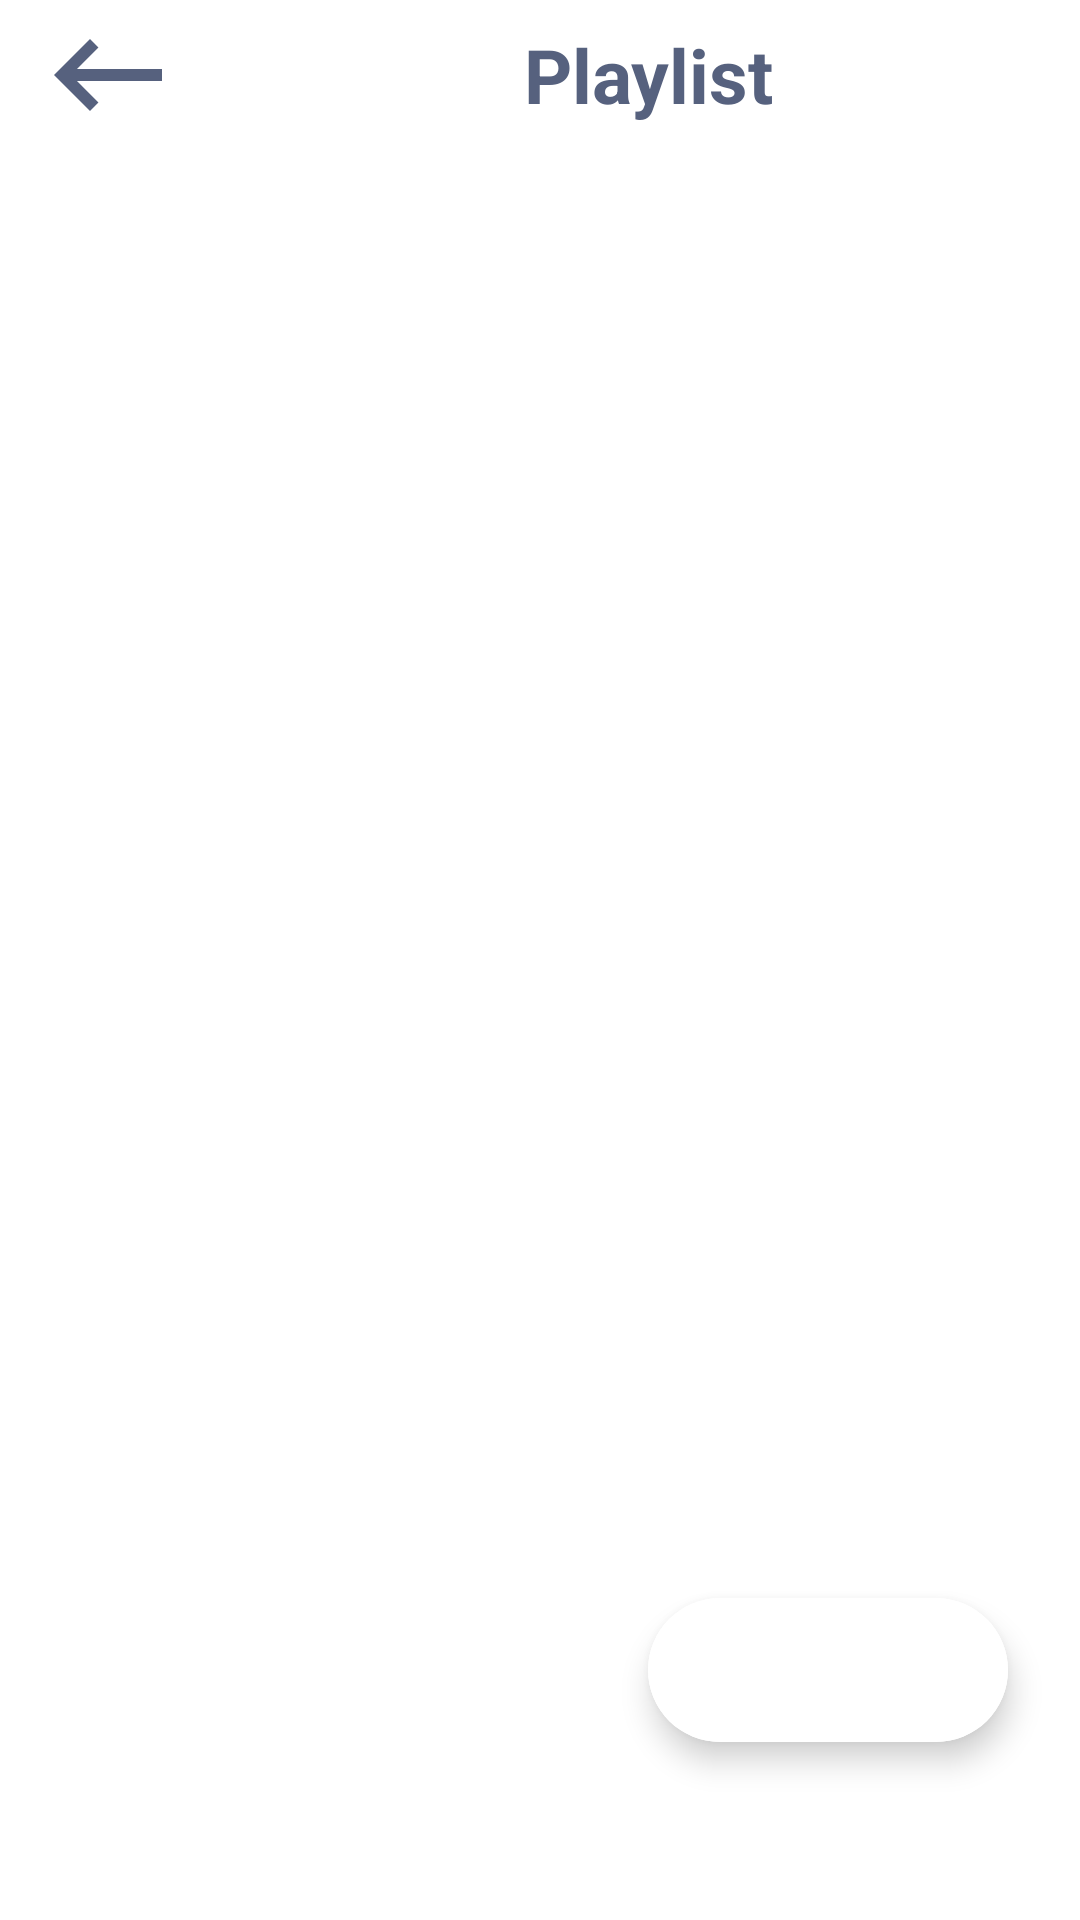

Icons on this 1080 x 1920 Android screen, each with its box as (x1, y1, x2, y2):
Back: (54, 39, 162, 111)
